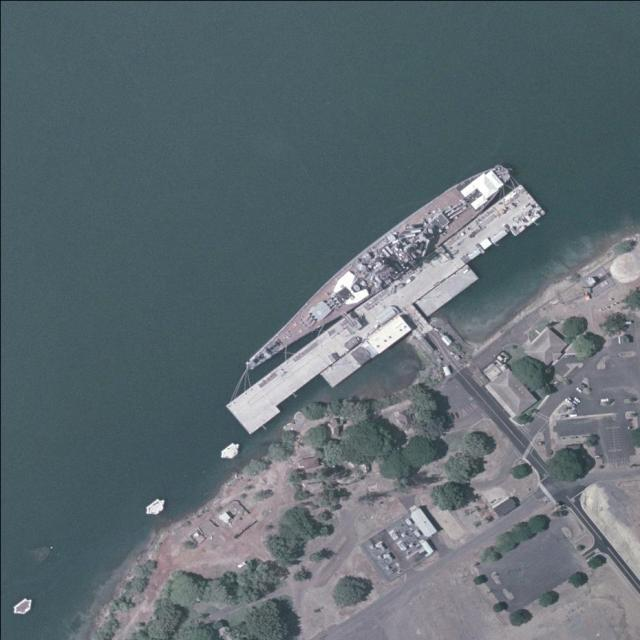Dock: (224, 184, 542, 434)
Other Warship: (233, 153, 519, 380)
